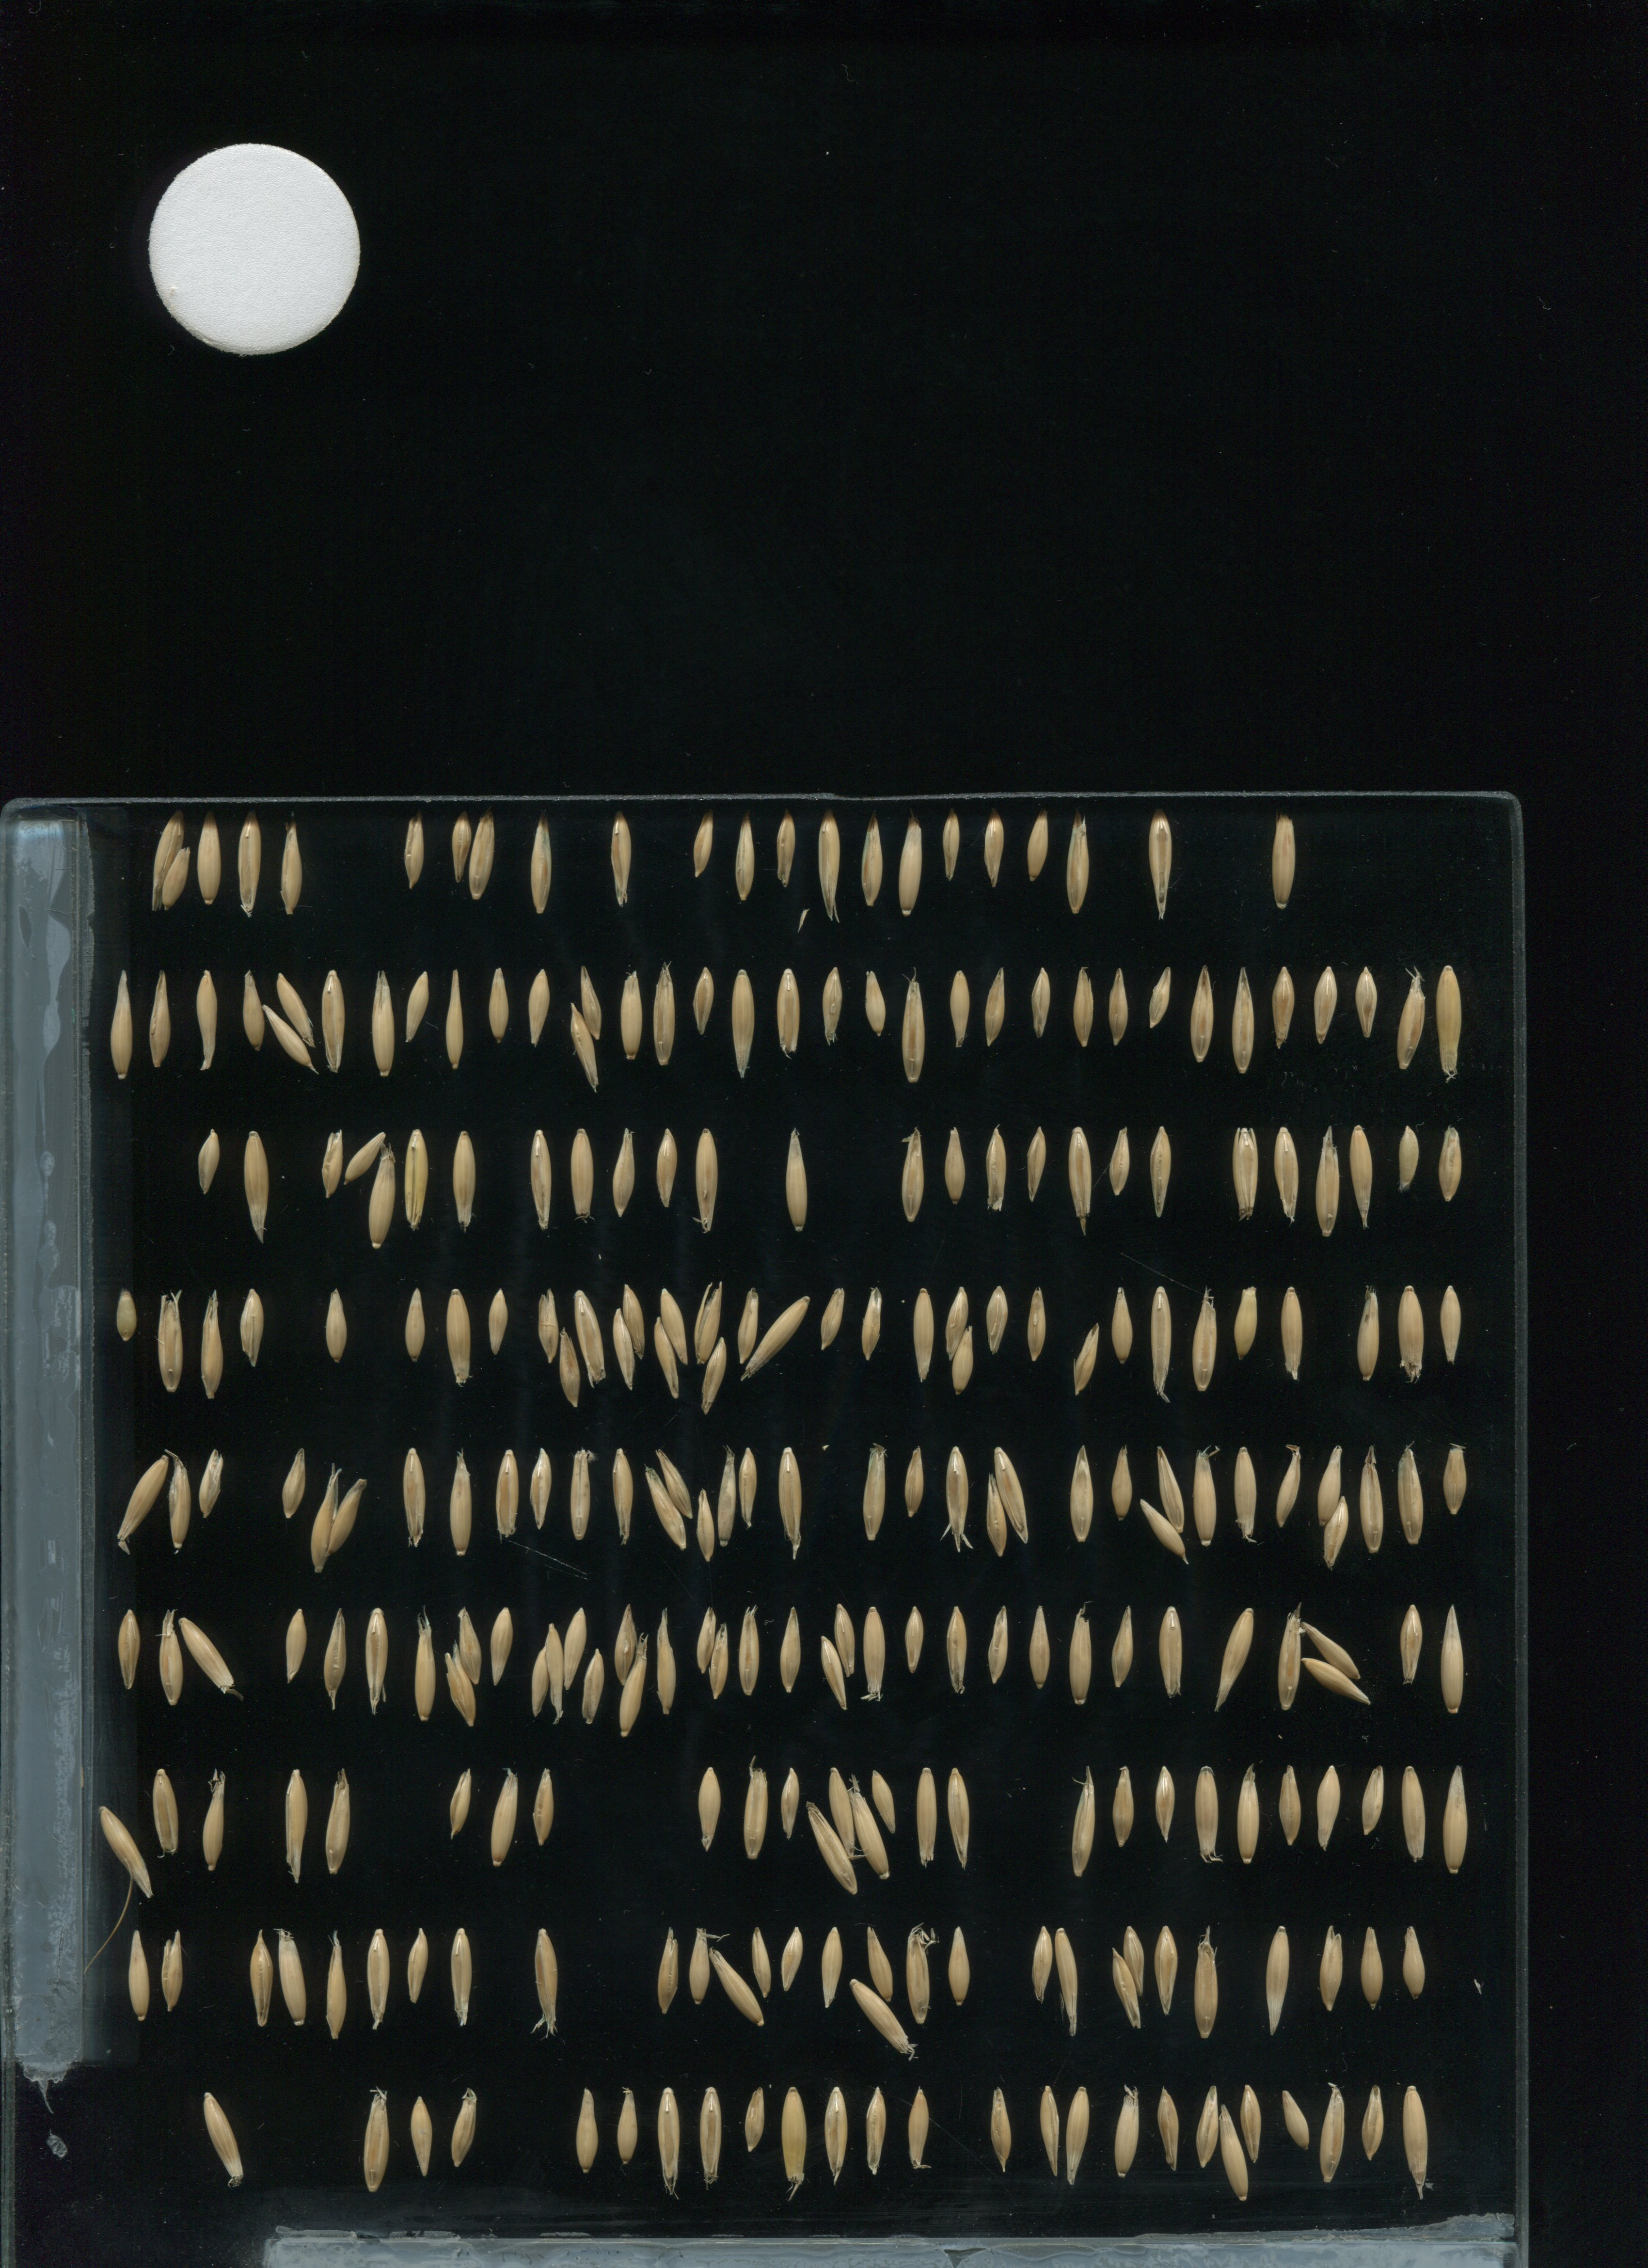NakedGrain: (1435, 1123, 1463, 1206), (859, 1278, 887, 1361), (315, 1123, 347, 1196), (817, 1285, 849, 1356), (771, 814, 799, 891), (445, 1766, 475, 1838), (937, 806, 965, 879), (688, 806, 715, 879), (197, 1123, 222, 1197), (695, 1602, 720, 1676), (1146, 961, 1171, 1034), (1396, 1122, 1421, 1194), (111, 1289, 143, 1342), (694, 963, 717, 1035)
WholeGrain: (847, 1976, 919, 2062), (739, 1294, 810, 1381), (95, 1805, 151, 1902), (1210, 1602, 1257, 1717), (176, 1613, 238, 1699), (806, 1801, 857, 1902), (118, 1451, 171, 1546), (262, 1004, 324, 1078), (201, 2090, 245, 2192), (708, 1948, 764, 2027), (1299, 1616, 1366, 1682), (991, 1444, 1034, 1546), (644, 1460, 687, 1557), (849, 1780, 887, 1886), (616, 1632, 653, 1741), (1299, 1655, 1373, 1708), (310, 1460, 343, 1576), (1139, 1497, 1192, 1569), (148, 808, 183, 914), (570, 1285, 606, 1391), (324, 1476, 366, 1562), (1155, 1442, 1192, 1541), (275, 968, 319, 1051), (692, 1277, 731, 1370), (1271, 1440, 1310, 1528), (525, 805, 553, 919), (817, 806, 845, 921), (1146, 806, 1174, 921), (1187, 960, 1215, 1074), (618, 960, 646, 1074), (148, 960, 176, 1074), (401, 1123, 430, 1238), (695, 1120, 724, 1234), (784, 1122, 812, 1236), (1190, 1285, 1218, 1400), (1354, 1277, 1382, 1391), (1394, 1273, 1423, 1388), (495, 1437, 523, 1551), (569, 1440, 597, 1555), (607, 1439, 636, 1553), (859, 1440, 887, 1555), (944, 1440, 972, 1555), (1192, 1439, 1220, 1553), (1396, 1439, 1424, 1553), (158, 1602, 187, 1717), (322, 1601, 350, 1715), (1107, 1592, 1136, 1706), (1157, 1592, 1185, 1706), (489, 1757, 518, 1872), (282, 1766, 310, 1881), (322, 1928, 350, 2043), (532, 1925, 560, 2039), (905, 1921, 933, 2036), (1051, 1919, 1079, 2034), (1262, 1919, 1291, 2034), (1190, 1926, 1218, 2041), (1157, 2069, 1185, 2183), (1065, 2078, 1093, 2192), (780, 2081, 808, 2196), (361, 2083, 389, 2198), (467, 808, 500, 903), (236, 808, 264, 921), (276, 806, 305, 919), (607, 801, 636, 914), (857, 806, 886, 919), (896, 808, 924, 921), (1065, 806, 1093, 919), (1269, 806, 1298, 919), (1435, 963, 1463, 1076), (1396, 965, 1424, 1078), (1229, 967, 1257, 1079), (900, 974, 928, 1086), (775, 958, 803, 1071), (727, 965, 755, 1078), (650, 961, 678, 1074), (372, 967, 400, 1079), (320, 965, 349, 1078), (107, 965, 136, 1078), (194, 960, 222, 1072), (241, 1127, 269, 1240), (451, 1123, 479, 1236), (526, 1123, 555, 1236), (569, 1120, 597, 1233), (609, 1122, 637, 1234), (900, 1118, 928, 1231), (1065, 1122, 1093, 1234), (1146, 1118, 1174, 1231), (1232, 1118, 1261, 1231), (1271, 1115, 1299, 1227), (1315, 1127, 1343, 1240), (1347, 1122, 1375, 1234), (157, 1284, 185, 1396), (199, 1291, 227, 1403), (445, 1278, 474, 1391), (909, 1277, 937, 1389), (1146, 1284, 1174, 1396), (1276, 1273, 1305, 1386), (166, 1447, 194, 1560), (400, 1442, 428, 1555), (447, 1447, 475, 1560), (526, 1435, 555, 1548), (775, 1442, 803, 1555), (1067, 1440, 1095, 1553), (1229, 1437, 1257, 1550), (1356, 1440, 1384, 1553), (361, 1604, 389, 1717), (410, 1613, 438, 1726), (734, 1597, 762, 1710), (775, 1594, 803, 1706), (859, 1594, 887, 1706), (1065, 1601, 1093, 1713), (1273, 1604, 1301, 1717), (655, 1601, 683, 1713), (1440, 1764, 1468, 1877), (1402, 1761, 1430, 1874), (1234, 1761, 1262, 1874), (1196, 1759, 1224, 1872), (1070, 1768, 1099, 1881), (944, 1761, 972, 1874), (912, 1759, 940, 1872), (741, 1756, 769, 1868), (324, 1768, 352, 1881), (197, 1766, 225, 1879), (151, 1759, 180, 1872), (123, 1919, 151, 2032), (246, 1925, 275, 2037), (276, 1921, 305, 2034), (361, 1925, 389, 2037), (447, 1923, 475, 2036), (1317, 1912, 1345, 2025), (1400, 2085, 1428, 2198), (1319, 2078, 1347, 2191), (1115, 2076, 1143, 2189), (1037, 2078, 1065, 2191), (861, 2073, 889, 2185), (822, 2078, 850, 2191), (695, 2078, 724, 2191), (655, 2083, 683, 2196), (368, 1143, 396, 1254), (650, 1312, 683, 1405), (195, 808, 225, 910), (340, 1130, 389, 1192), (657, 1284, 692, 1370), (1438, 1599, 1465, 1713), (732, 812, 764, 907), (442, 963, 468, 1076), (1026, 1590, 1053, 1703), (569, 1000, 600, 1093), (607, 1305, 639, 1396), (1317, 1440, 1349, 1532), (828, 1764, 857, 1861), (697, 1331, 731, 1417), (574, 961, 607, 1046), (657, 1446, 694, 1521), (1218, 2108, 1248, 2201), (817, 1629, 849, 1717), (454, 1602, 484, 1694), (1113, 1944, 1144, 2030), (982, 1122, 1011, 1217), (555, 1328, 586, 1412), (1319, 1490, 1350, 1572), (445, 1650, 477, 1733), (944, 1602, 970, 1699), (239, 967, 268, 1057), (535, 1282, 565, 1366), (1278, 1756, 1305, 1851), (1315, 1757, 1342, 1852), (1361, 1749, 1387, 1844), (1400, 1914, 1426, 2009), (1357, 1919, 1384, 2014), (1153, 1918, 1180, 2013), (1030, 1918, 1056, 2013), (945, 1921, 972, 2016), (819, 1918, 845, 2013), (657, 1923, 683, 2018), (688, 1921, 715, 2016), (160, 1921, 187, 2016), (408, 2088, 435, 2183), (451, 2081, 477, 2176), (574, 2083, 600, 2178), (907, 2083, 933, 2178), (988, 2081, 1014, 2176), (1240, 2078, 1266, 2173), (1196, 2078, 1222, 2173), (1361, 2078, 1387, 2171), (622, 1278, 650, 1363), (699, 1763, 724, 1858), (405, 1919, 430, 2014), (868, 1766, 900, 1840), (614, 2074, 639, 2169), (1070, 1319, 1099, 1402), (866, 1926, 896, 2004), (563, 1602, 588, 1696), (579, 1646, 607, 1727), (833, 1597, 859, 1682), (942, 1282, 968, 1365), (1122, 1921, 1148, 2004), (780, 1757, 803, 1852), (1113, 1759, 1136, 1854), (1153, 1756, 1176, 1851), (984, 1469, 1007, 1562), (1278, 2088, 1310, 2155), (544, 1620, 563, 1729), (160, 843, 190, 914), (614, 1599, 637, 1689), (449, 806, 474, 889), (1028, 961, 1053, 1044), (1313, 961, 1338, 1044), (1023, 1122, 1048, 1204), (653, 1123, 678, 1206), (199, 1442, 224, 1525), (706, 1622, 731, 1705), (778, 1923, 806, 1995), (401, 814, 426, 895), (982, 808, 1007, 889), (1026, 803, 1051, 884), (405, 967, 430, 1048), (486, 965, 511, 1046), (820, 965, 845, 1046), (947, 965, 972, 1046), (981, 967, 1005, 1048), (1072, 965, 1097, 1046), (1107, 968, 1132, 1049), (1271, 967, 1296, 1048), (1109, 1120, 1134, 1201), (324, 1289, 349, 1370), (403, 1285, 428, 1366), (488, 1282, 512, 1363), (239, 1284, 264, 1365), (984, 1280, 1009, 1361), (1023, 1284, 1048, 1365), (1111, 1282, 1136, 1363), (1234, 1284, 1259, 1365), (1438, 1282, 1463, 1363), (736, 1285, 761, 1366), (1113, 1444, 1137, 1525), (901, 1437, 926, 1518), (738, 1446, 762, 1527), (283, 1442, 308, 1523), (1398, 1601, 1423, 1682), (986, 1601, 1011, 1682), (489, 1602, 514, 1683), (283, 1601, 308, 1682), (116, 1608, 141, 1689), (1356, 960, 1379, 1042), (532, 1766, 555, 1849), (951, 1321, 975, 1396), (528, 963, 551, 1044), (864, 963, 887, 1044), (944, 1125, 967, 1206), (1442, 1446, 1465, 1527), (903, 1597, 926, 1678), (750, 1925, 773, 2002), (530, 1643, 551, 1720), (695, 1488, 717, 1562), (745, 2085, 766, 2155)
